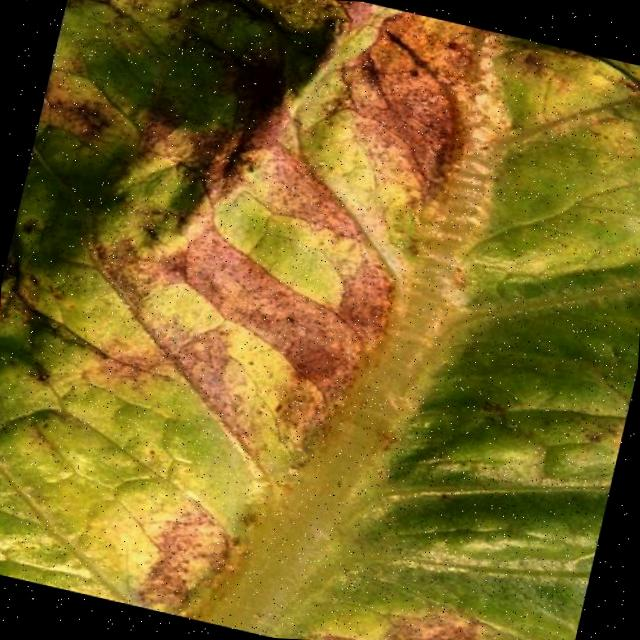Septoria_Blight: (0, 0, 483, 640)
